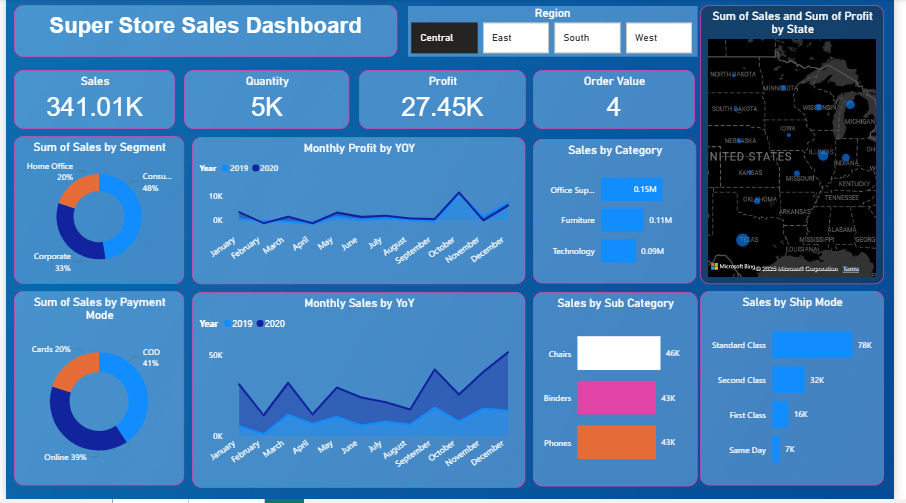

Layout of this report page (visuals, bound fields, positions):
{"tool":"powerbi","page":{"name":"Page 1","canvas":[1280,720],"ordinal":0},"visuals":[{"type":"clusteredBarChart","title":"Sales by Category","fields":{"Category":["SuperStore_Sales_Dataset.Category"],"Y":["Sum(SuperStore_Sales_Dataset.Sales)"]},"box":[758.3,201.7,235,208.3],"z":0},{"type":"clusteredBarChart","title":"Sales by Sub Category","fields":{"Category":["SuperStore_Sales_Dataset.Sub-Category"],"Y":["Sum(SuperStore_Sales_Dataset.Sales)"]},"box":[758.3,421.7,236.7,280],"z":1000},{"type":"clusteredBarChart","title":"Sales by Ship Mode","fields":{"Category":["SuperStore_Sales_Dataset.Ship Mode"],"Y":["Sum(SuperStore_Sales_Dataset.Sales)"]},"box":[1000,420,265,280],"z":2000},{"type":"stackedAreaChart","title":"Monthly Sales by YoY","fields":{"Category":["SuperStore_Sales_Dataset.Order Date.Variation.Date Hierarchy.Month"],"Y":["Sum(SuperStore_Sales_Dataset.Sales)"],"Series":["SuperStore_Sales_Dataset.Order Date.Variation.Date Hierarchy.Year"]},"box":[268.3,421.7,480,281.7],"z":3000},{"type":"stackedAreaChart","title":"Monthly Profit by YOY","fields":{"Category":["SuperStore_Sales_Dataset.Order Date.Variation.Date Hierarchy.Month"],"Series":["SuperStore_Sales_Dataset.Order Date.Variation.Date Hierarchy.Year"],"Y":["Sum(SuperStore_Sales_Dataset.Profit)"]},"box":[268.3,198.3,480,211.7],"z":4000},{"type":"map","fields":{"Category":["SuperStore_Sales_Dataset.State"],"Size":["Sum(SuperStore_Sales_Dataset.Sales)"]},"box":[1000,8.3,265,401.7],"z":5000},{"type":"donutChart","fields":{"Category":["SuperStore_Sales_Dataset.Segment"],"Y":["Sum(SuperStore_Sales_Dataset.Sales)"]},"box":[11.7,196.7,245,213.3],"z":6000},{"type":"donutChart","fields":{"Category":["SuperStore_Sales_Dataset.Payment Mode"],"Y":["Sum(SuperStore_Sales_Dataset.Sales)"]},"box":[11.7,420,245,280],"z":7000},{"type":"advancedSlicerVisual","fields":{"Values":["SuperStore_Sales_Dataset.Region"]},"box":[578.3,10,416.7,73.3],"z":8000},{"type":"textbox","box":[11.7,8.3,551.7,75],"z":9000},{"type":"card","title":"Sales","fields":{"Values":["Sum(SuperStore_Sales_Dataset.Sales)"]},"box":[11.7,101.7,231.7,85],"z":10000},{"type":"card","title":"Quantity","fields":{"Values":["Sum(SuperStore_Sales_Dataset.Quantity)"]},"box":[256.7,101.7,238.3,85],"z":11000},{"type":"card","title":"Profit","fields":{"Values":["Sum(SuperStore_Sales_Dataset.Profit)"]},"box":[508.3,101.7,240,85],"z":12000},{"type":"card","title":"Order Value","fields":{"Values":["Avg(SuperStore_Sales_Dataset.Average Delivery)"]},"box":[758.3,101.7,233.3,85],"z":13000}]}

Visuals, with their boxes in screenshot pixels (x1, y1, x2, y2), scaled from the page's 1280x720 canvas onto the 906x503 screenshot:
"Sales by Category" clusteredBarChart: Rect(537, 141, 703, 286)
"Sales by Sub Category" clusteredBarChart: Rect(537, 295, 704, 490)
"Sales by Ship Mode" clusteredBarChart: Rect(708, 293, 895, 489)
"Monthly Sales by YoY" stackedAreaChart: Rect(190, 295, 530, 491)
"Monthly Profit by YOY" stackedAreaChart: Rect(190, 139, 530, 286)
map - SuperStore_Sales_Dataset.State x Sum(SuperStore_Sales_Dataset.Sales): Rect(708, 6, 895, 286)
donutChart - SuperStore_Sales_Dataset.Segment x Sum(SuperStore_Sales_Dataset.Sales): Rect(8, 137, 182, 286)
donutChart - SuperStore_Sales_Dataset.Payment Mode x Sum(SuperStore_Sales_Dataset.Sales): Rect(8, 293, 182, 489)
advancedSlicerVisual - SuperStore_Sales_Dataset.Region: Rect(409, 7, 704, 58)
textbox: Rect(8, 6, 399, 58)
"Sales" card: Rect(8, 71, 172, 130)
"Quantity" card: Rect(182, 71, 350, 130)
"Profit" card: Rect(360, 71, 530, 130)
"Order Value" card: Rect(537, 71, 702, 130)
